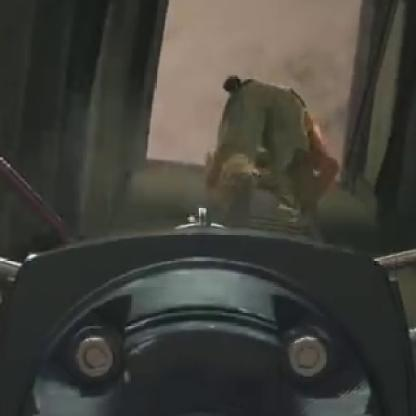enemy: (202, 72, 338, 226)
